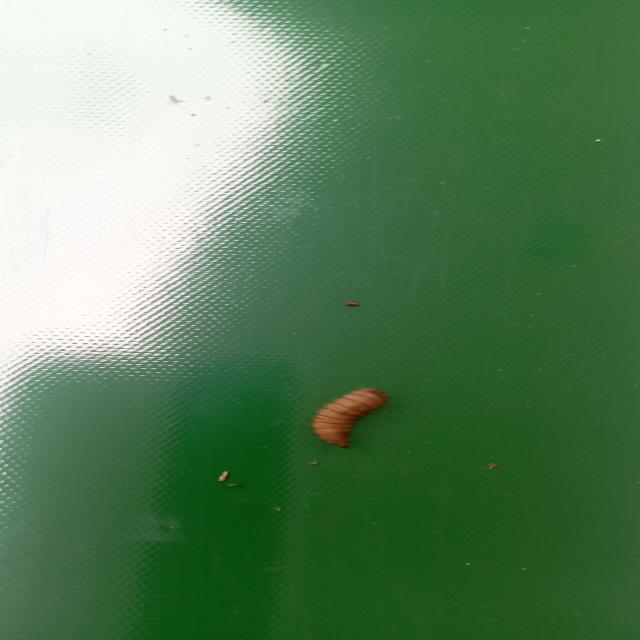Maggot: (311, 388, 387, 449)
